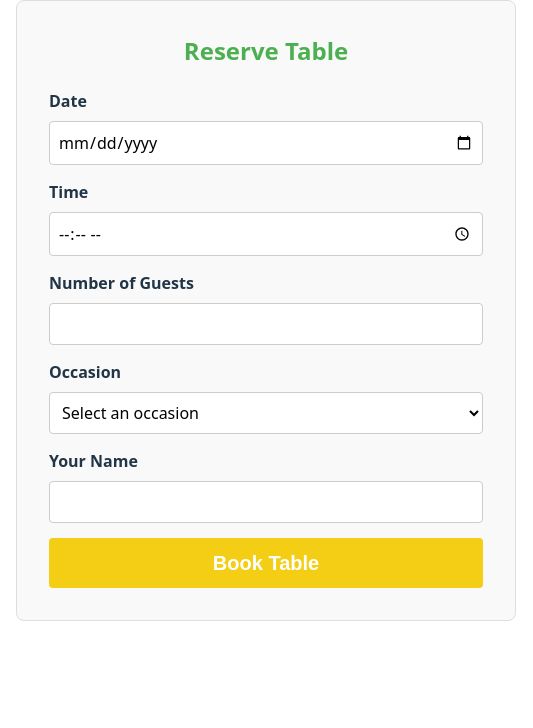
Test: BookingForm › shows validation errors for invalid input
The image size is (533, 728).
Type "-5" into the number field labelled "Number of Guests" at {"x": 266, "y": 324}, box 49,303 -> 483,345
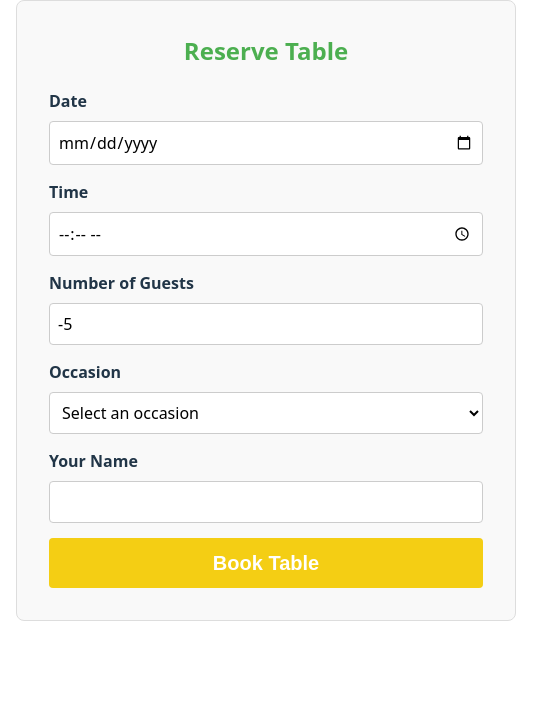
Click the button "Book Table" at {"x": 266, "y": 563}, box 49,538 -> 483,588
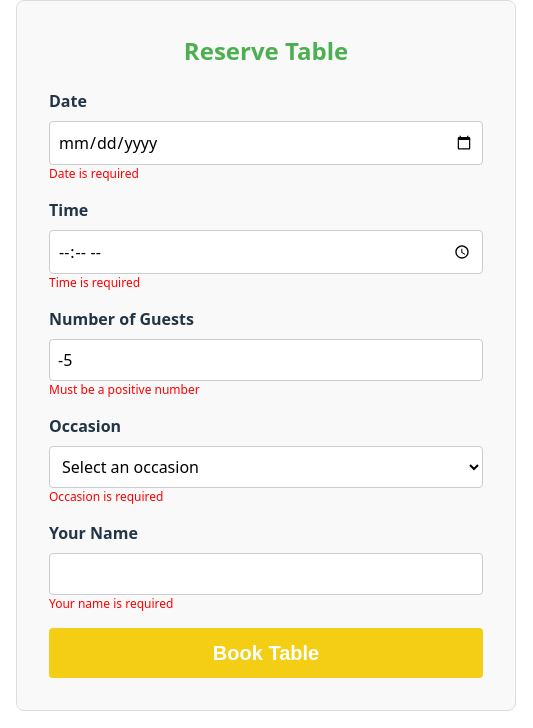
Expected: the text "Must be a positive number" is shown, 49,381 -> 200,398
